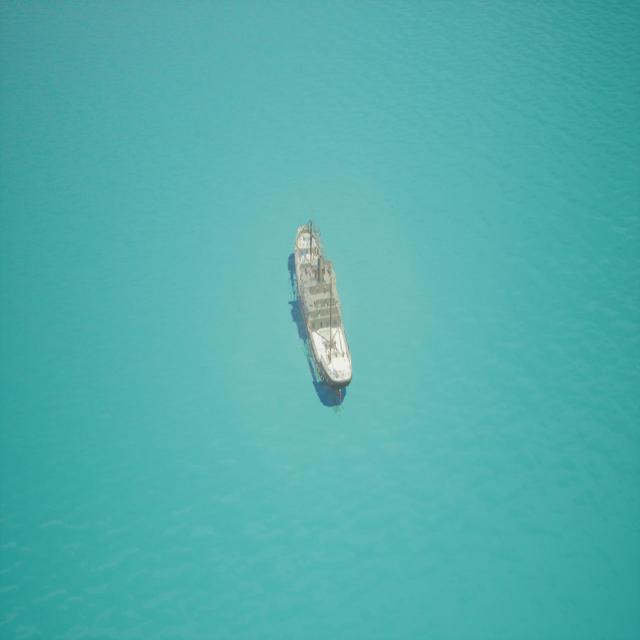fishing ship: (287, 217, 354, 407)
